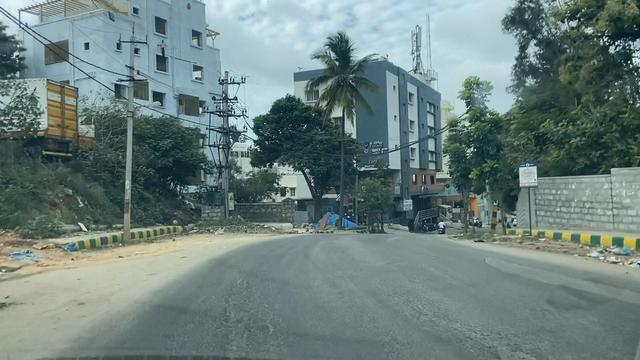RoadDamages: (475, 246, 640, 332), (425, 304, 551, 360)
